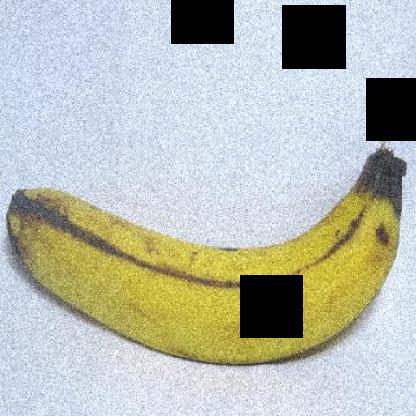ripe: (4, 132, 409, 386)
